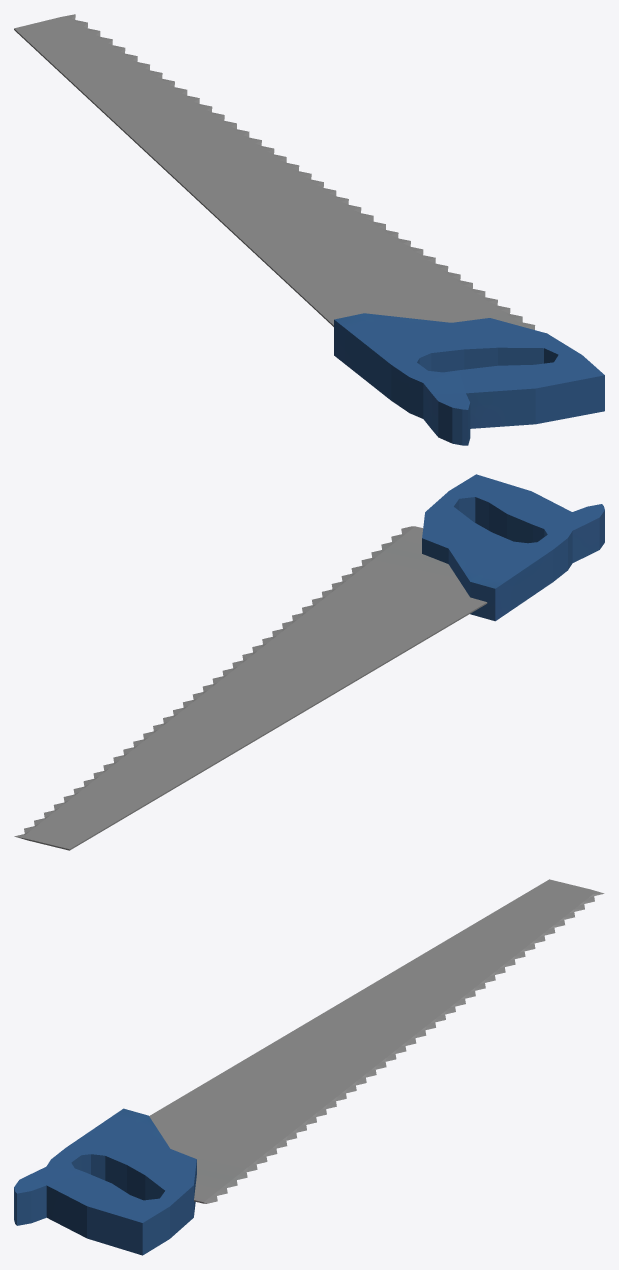
Rendered from HandSaw.glb.
3 views of the same model, one above another, from view 1: azimuth 30°, elevation 25°; view 2: azimuth 150°, elevation 25°; view 3: azimuth 330°, elevation 25° (orthographic). The views are drawn at different scales.
Visible parts, largest first — view 1: Hand_saw; view 2: Hand_saw; view 3: Hand_saw.
Part boxes in pixels (x1,y1,x2,y2): Hand_saw: (14, 14, 604, 445); Hand_saw: (14, 474, 604, 850); Hand_saw: (14, 879, 604, 1255).
Bounding box in the file's own units: 0.1088 × 0.0219 × 0.5757.
Materials: 1 (1 with a texture image).
